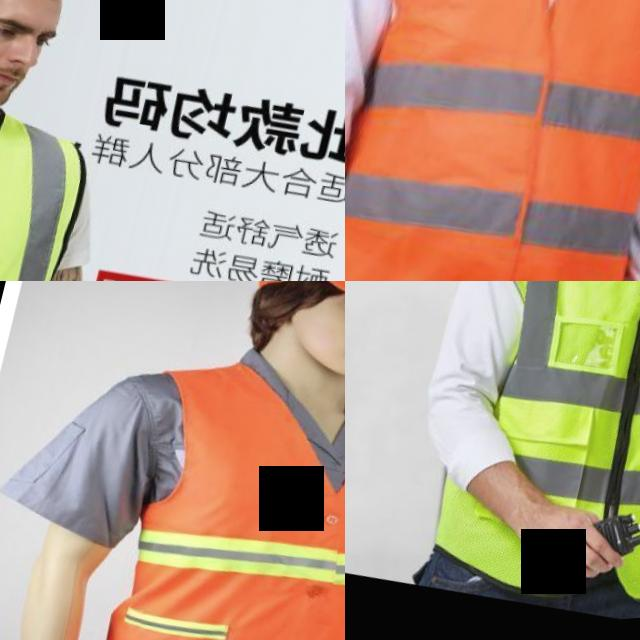vest: (345, 0, 640, 281), (82, 347, 345, 640), (432, 281, 640, 621), (0, 62, 91, 281)
